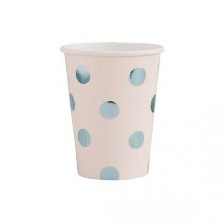paper_cup: (56, 38, 167, 185)
